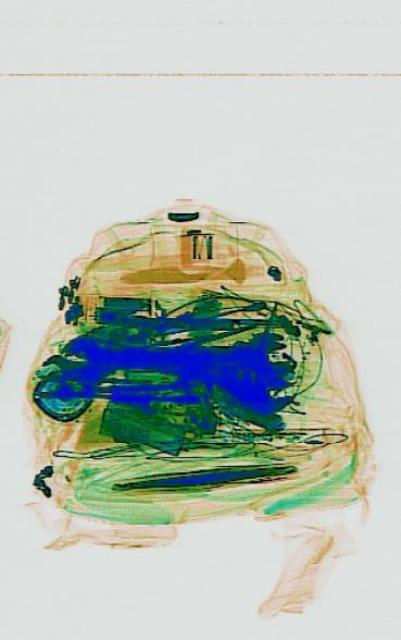Wrench: (172, 319, 295, 416), (61, 334, 175, 382), (40, 351, 83, 384)
